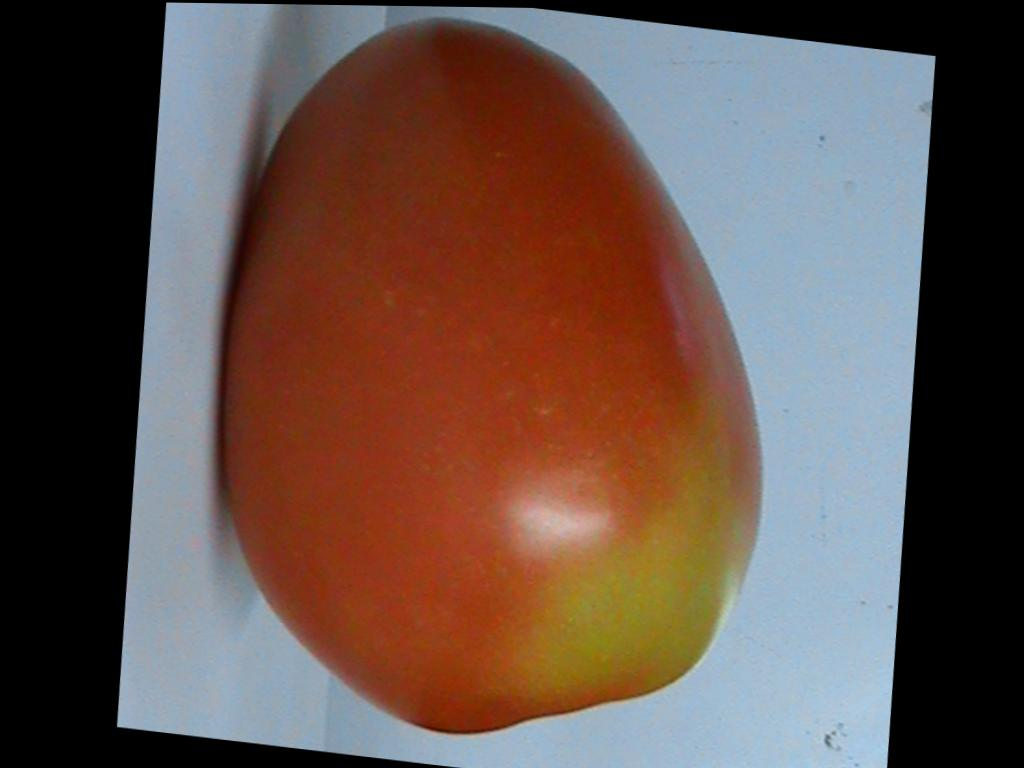tomato: (226, 18, 761, 731)
